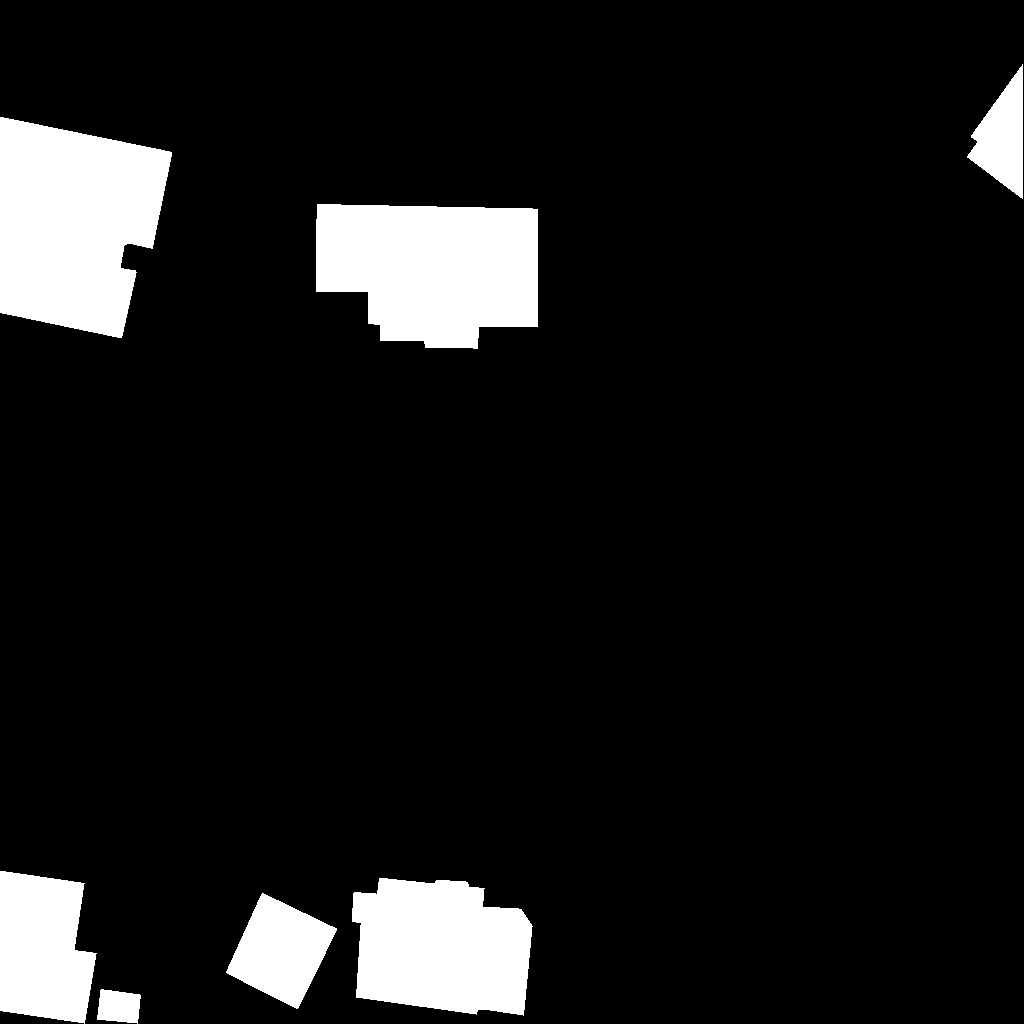building: (0, 117, 173, 339), (316, 204, 539, 349), (352, 878, 533, 1016), (0, 871, 97, 1024), (226, 893, 338, 1010), (967, 64, 1024, 200), (97, 989, 142, 1024)
